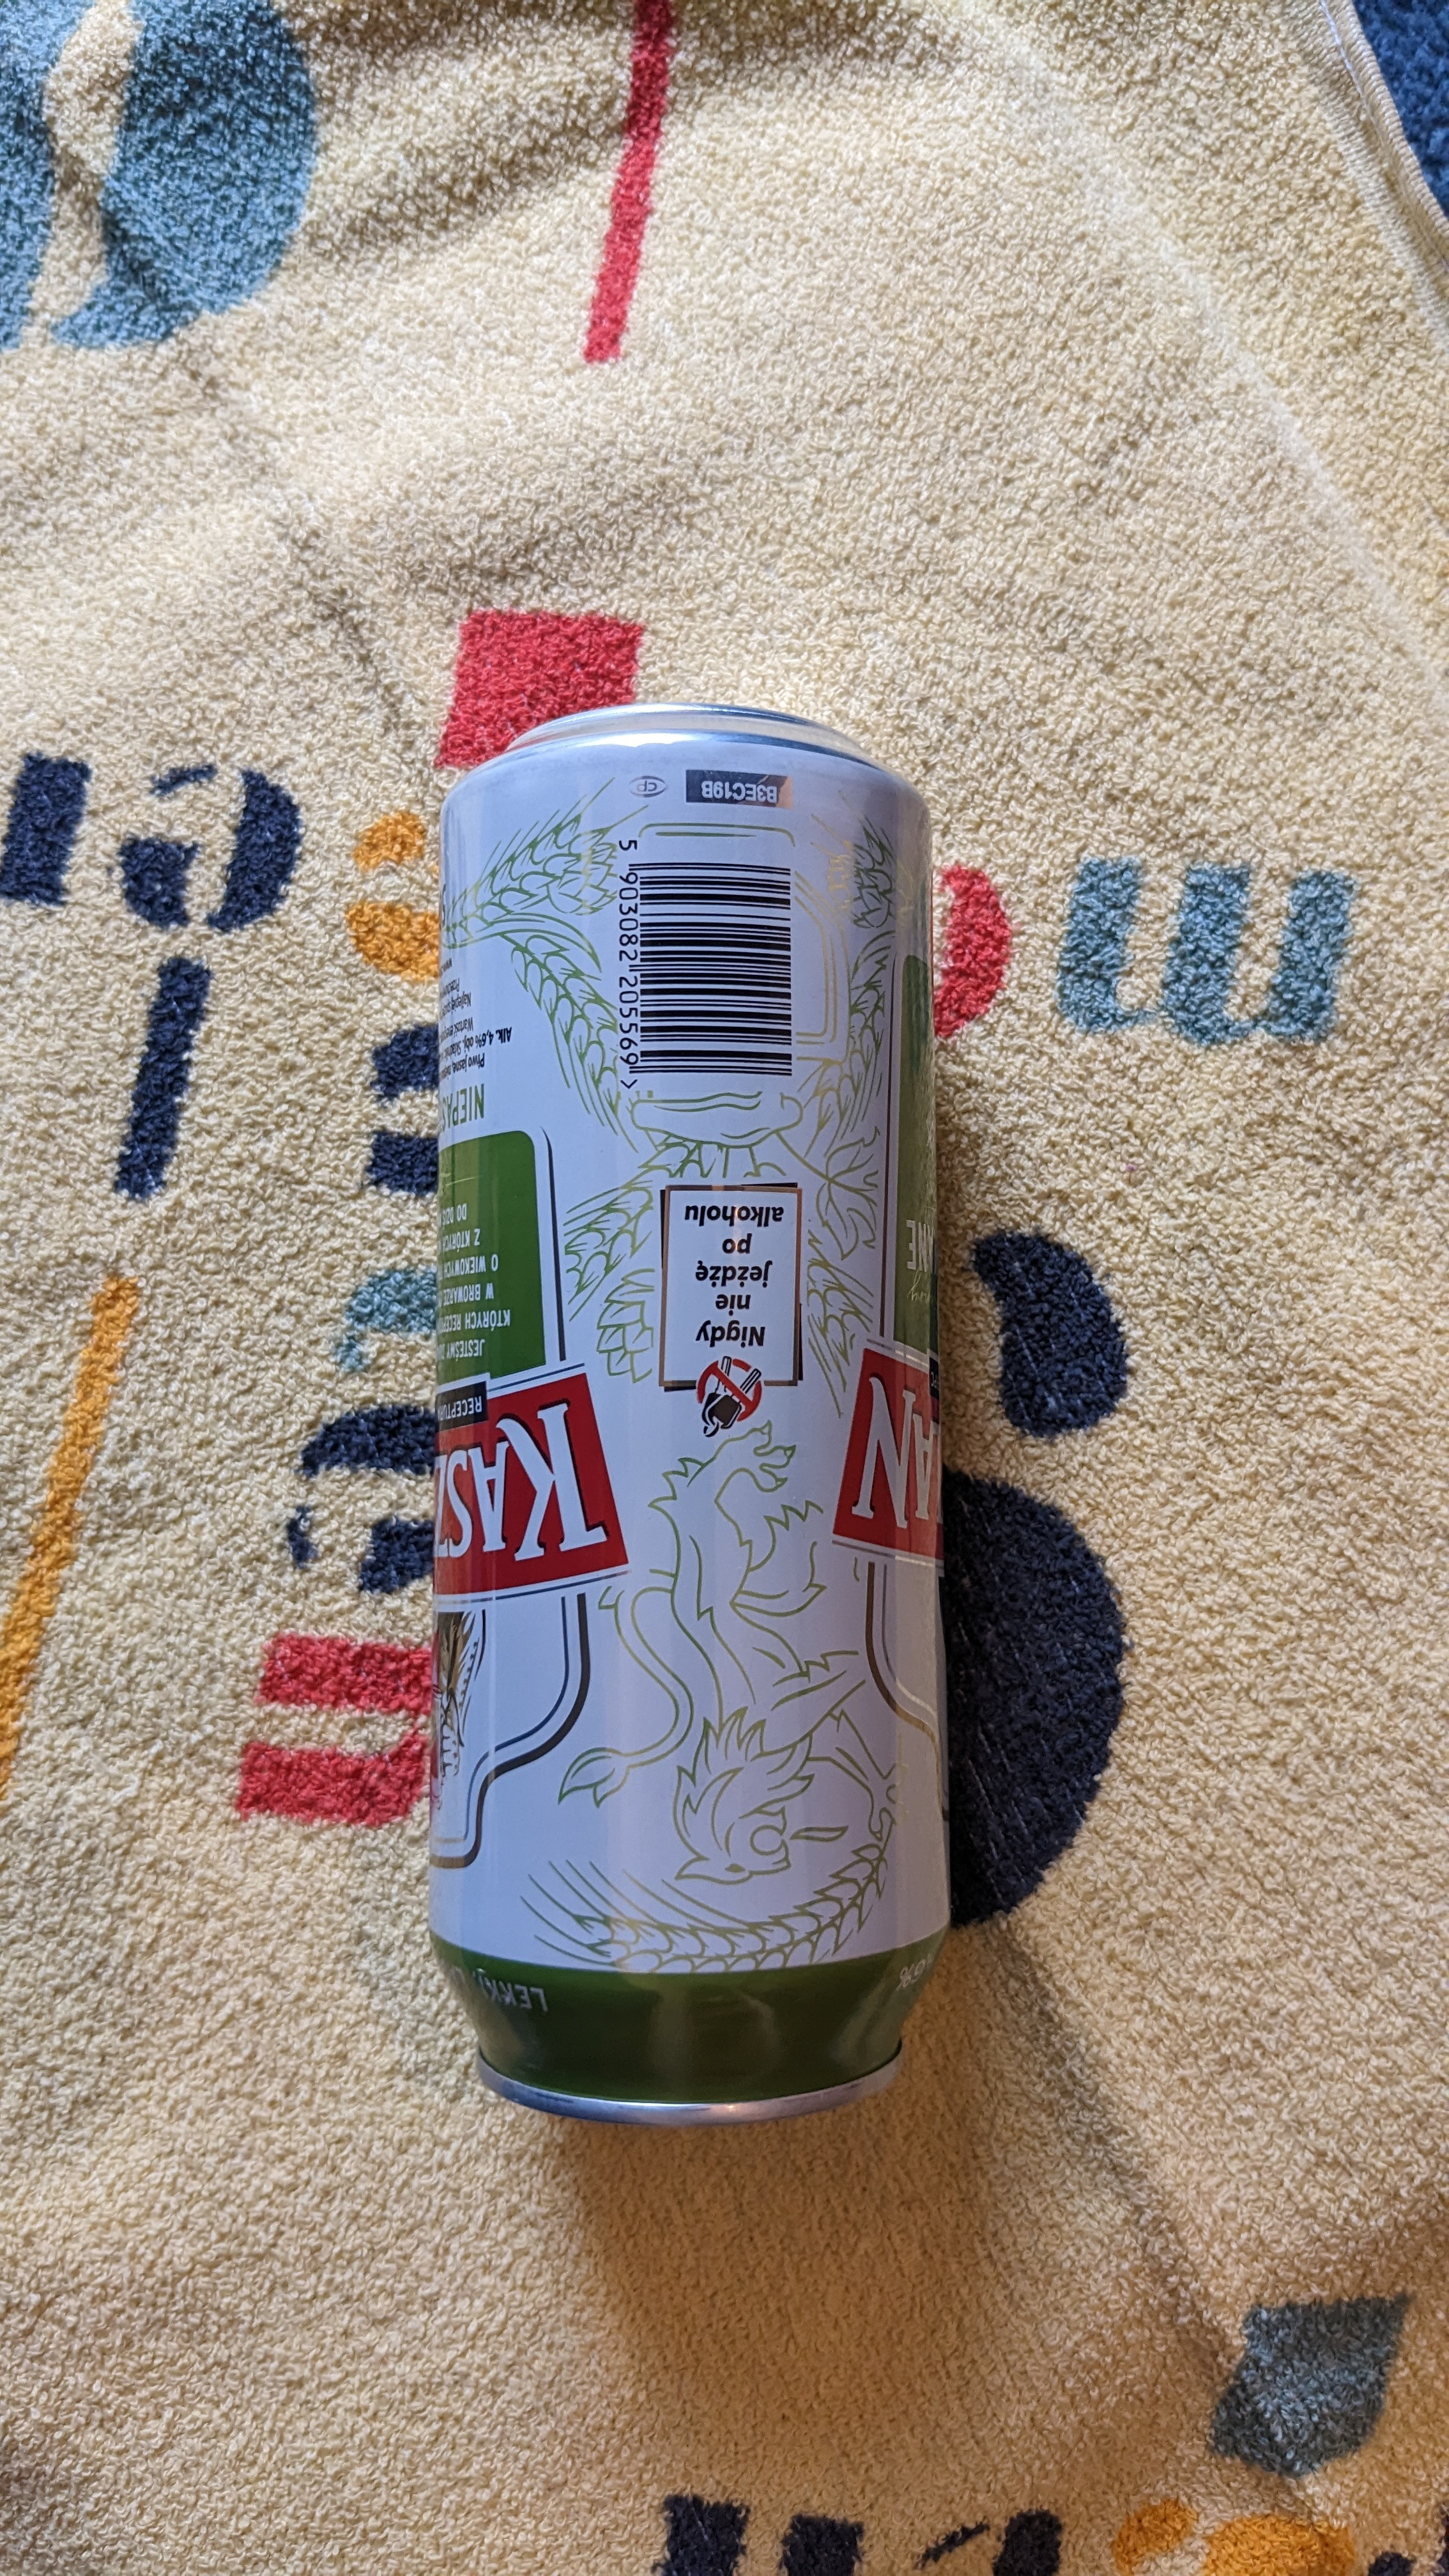kasztelan: (421, 713, 1000, 2143)
